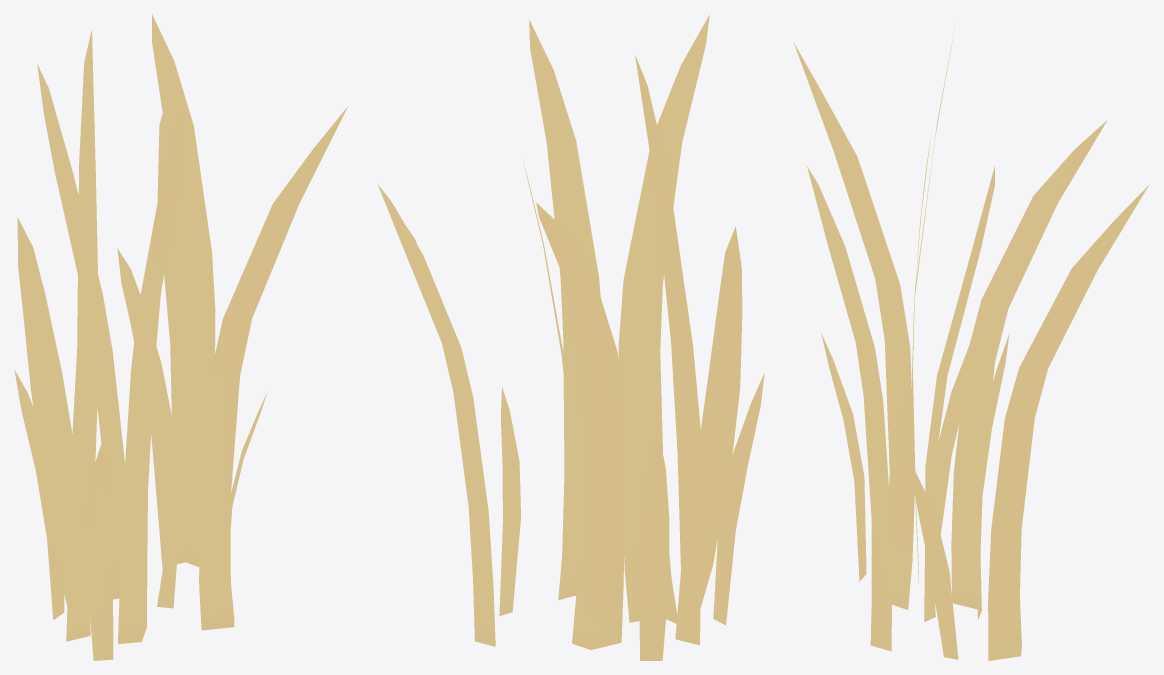
Rendered from DesertGrass_Common_Short.obj.
The picture shows the model from 3 angles, left to right: view 1: azimuth 30°, elevation 25°; view 2: azimuth 150°, elevation 25°; view 3: azimuth 270°, elevation 25°; orthographic projection. The views are drawn at different scales.
Visible parts, largest first — view 1: DesertGrass_Common_Short; view 2: DesertGrass_Common_Short; view 3: DesertGrass_Common_Short.
Part boxes in pixels (x1=…): DesertGrass_Common_Short: x1=14, y1=14, x2=347, y2=660; DesertGrass_Common_Short: x1=377, y1=14, x2=764, y2=660; DesertGrass_Common_Short: x1=793, y1=27, x2=1149, y2=660.
Bounding box in the file's own units: 0.6389 × 1.33 × 0.7373.
1 material, 1 textured.
